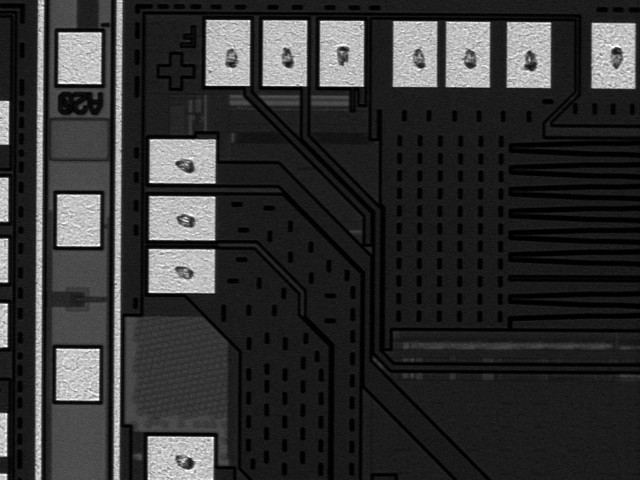normal: (313, 16, 369, 90), (201, 15, 254, 90), (440, 17, 493, 91), (258, 15, 310, 90), (144, 136, 220, 186), (143, 247, 219, 297), (503, 19, 555, 92), (144, 192, 218, 243), (588, 19, 639, 93), (141, 430, 216, 480), (389, 18, 440, 91)
